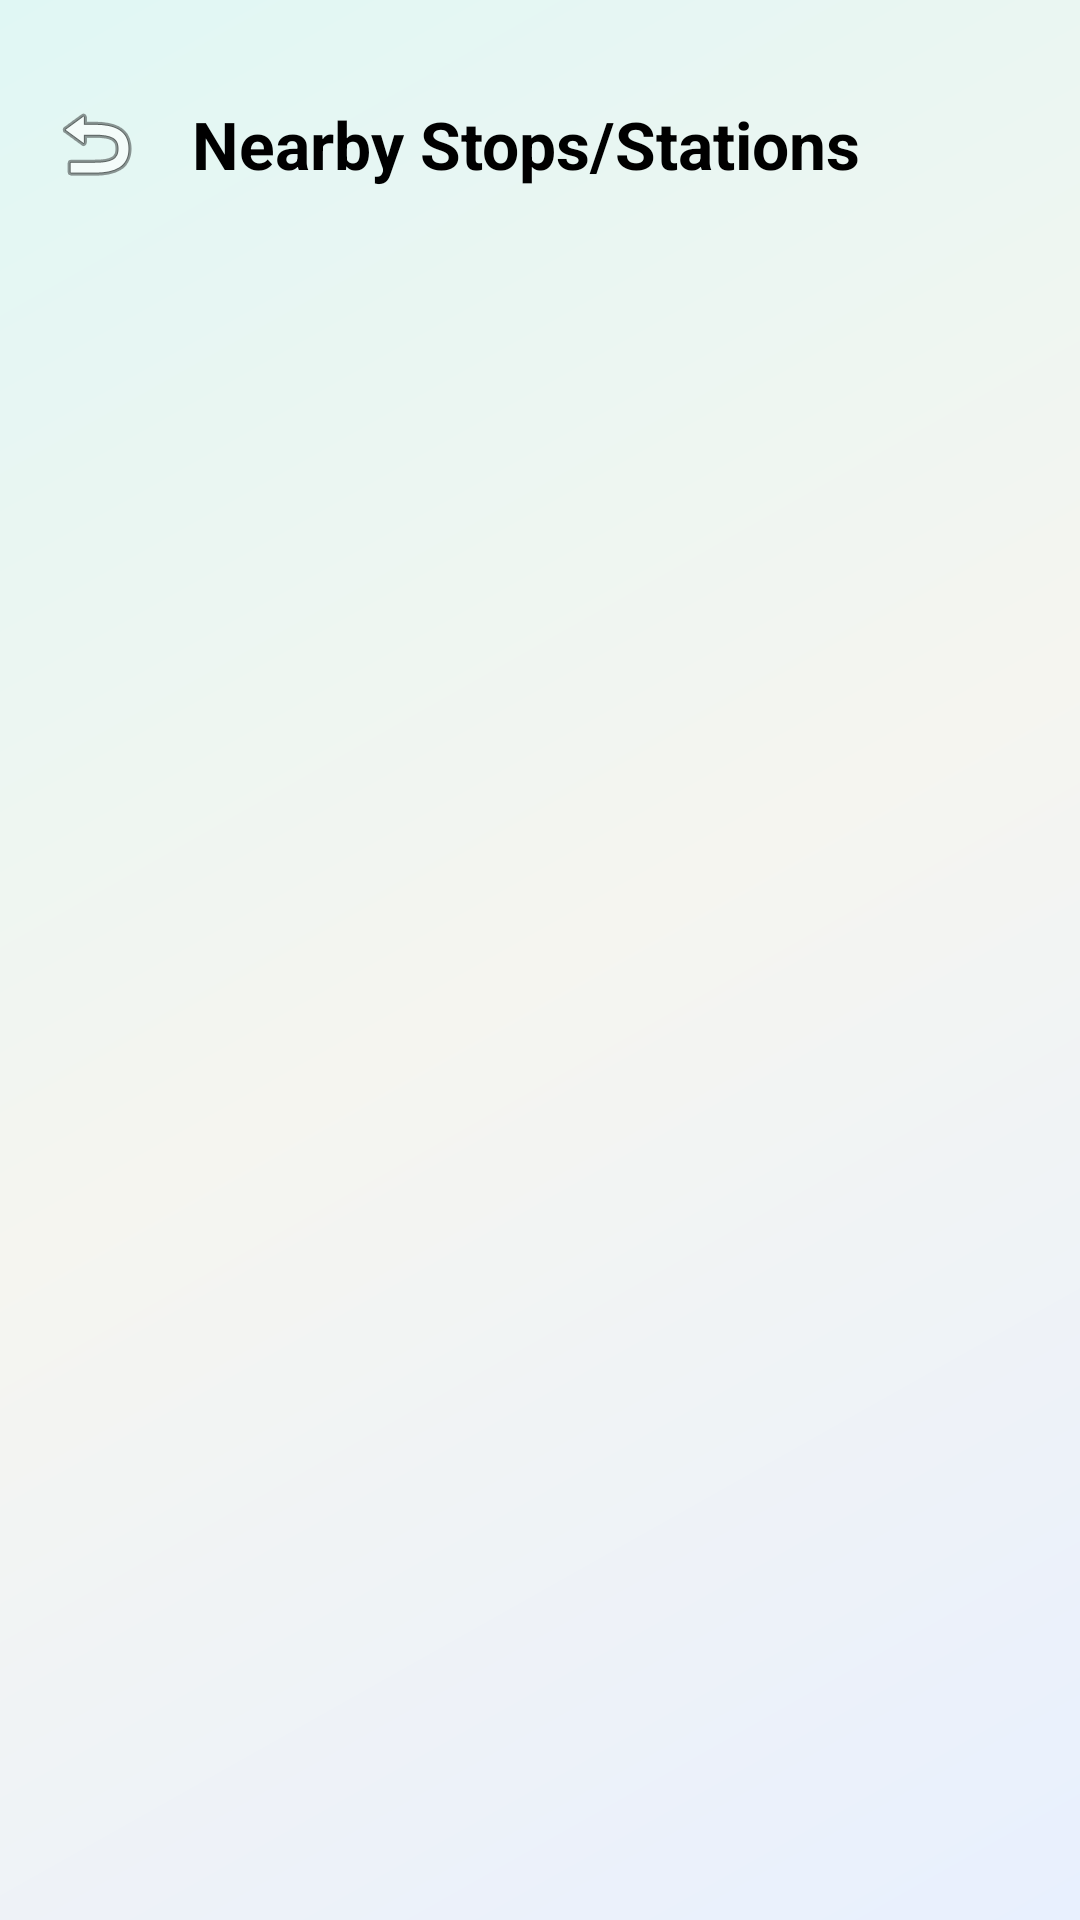

Icons on this 1080px×1920px Android screen, each with the point to tap as (x,y):
Back: (97,144)
